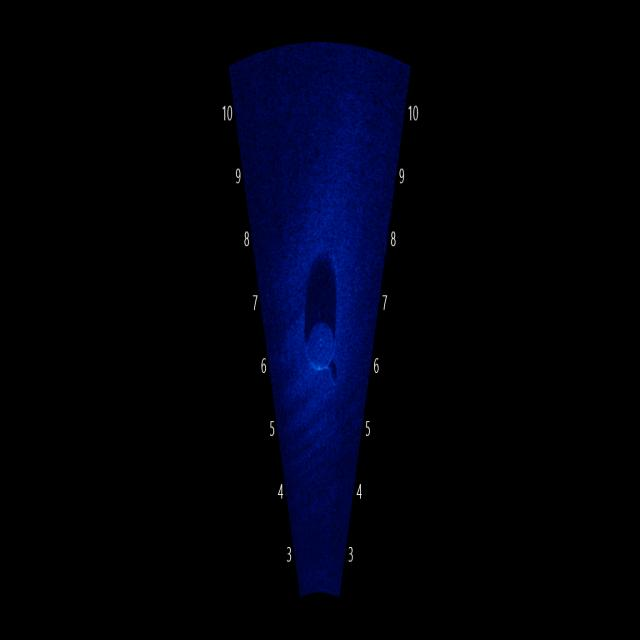circle: (302, 312, 341, 376)
